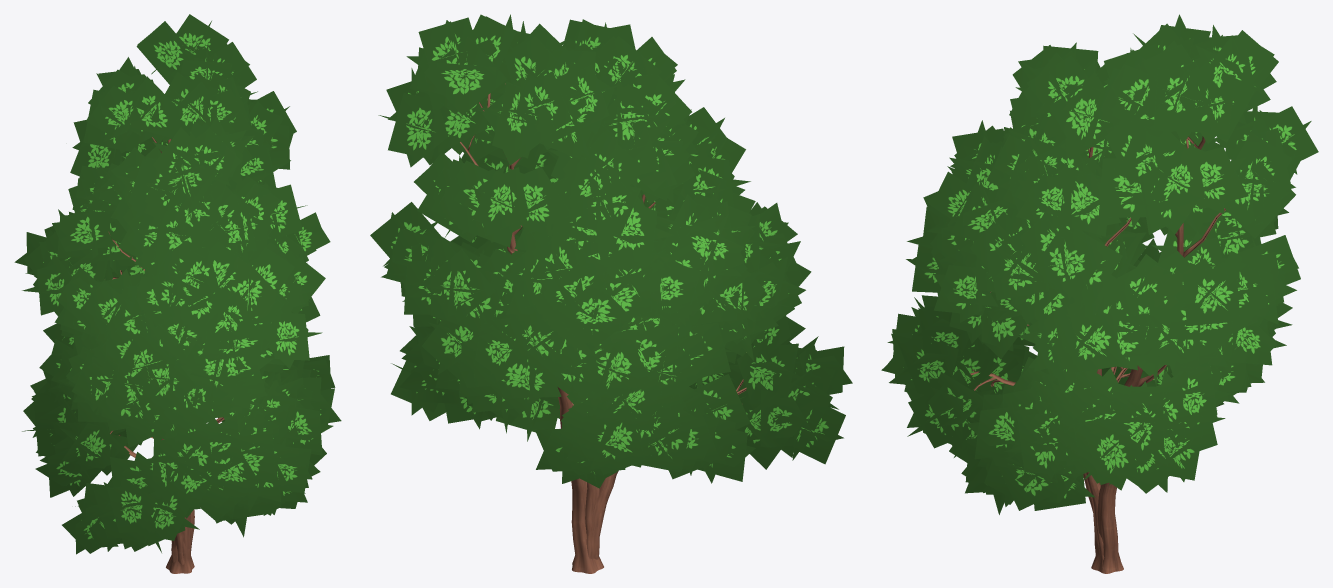
Rendered from Tree_06.glb.
3 renders of one model, left to right at view 1: azimuth 30°, elevation 25°; view 2: azimuth 150°, elevation 25°; view 3: azimuth 270°, elevation 25°, orthographic. The views are drawn at different scales.
Parts seen in each view (by area): view 1: Tree_06; view 2: Tree_06; view 3: Tree_06.
Part boxes in pixels (x1,y1,x2,y2): Tree_06: [14, 14, 341, 573]; Tree_06: [370, 14, 852, 573]; Tree_06: [881, 14, 1318, 573].
Bounding box in the file's own units: 6.48 × 9.74 × 6.82.
Materials: 2 (2 with a texture image).
